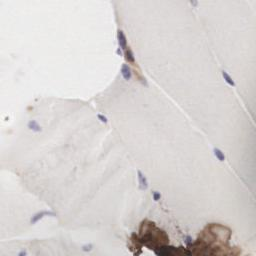nucleus: (32, 211, 55, 222), (137, 171, 148, 190), (213, 147, 225, 161), (222, 71, 234, 85), (117, 30, 126, 48), (27, 120, 41, 131), (122, 64, 130, 81), (97, 112, 108, 123), (81, 241, 93, 251), (153, 192, 161, 201), (184, 236, 192, 242), (114, 49, 122, 55), (19, 250, 26, 256), (191, 1, 198, 6), (143, 79, 147, 86)
positive_cell: (124, 47, 141, 68), (132, 68, 147, 88)
